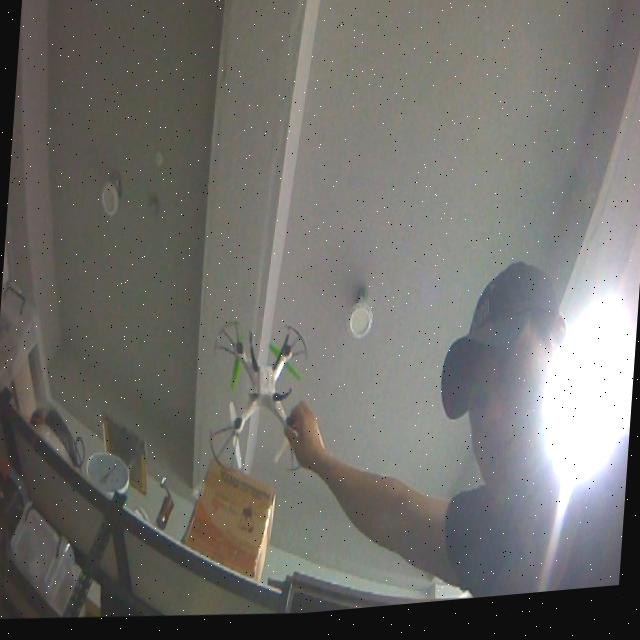drone: (203, 313, 323, 486)
